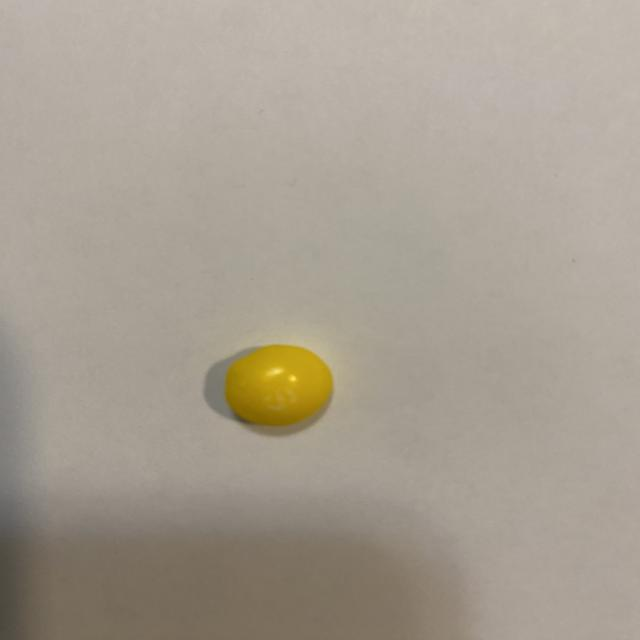smartie: (223, 345, 333, 429)
